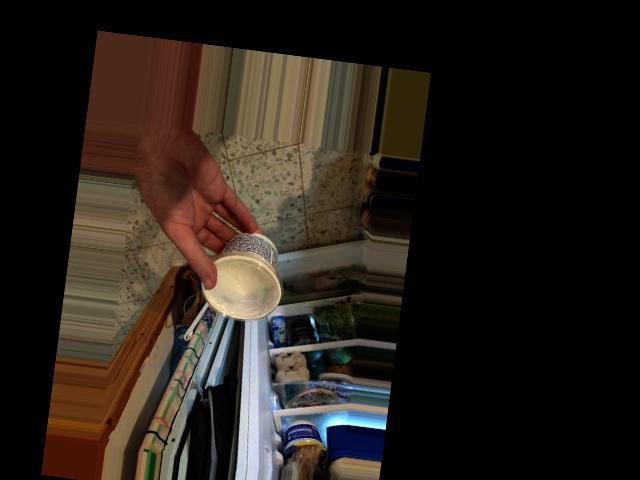cotage: (207, 229, 286, 321)
